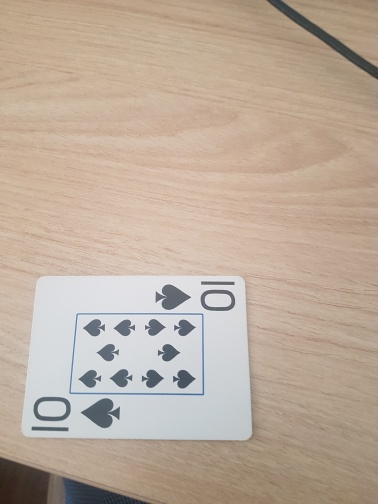ten: (21, 275, 254, 442)
